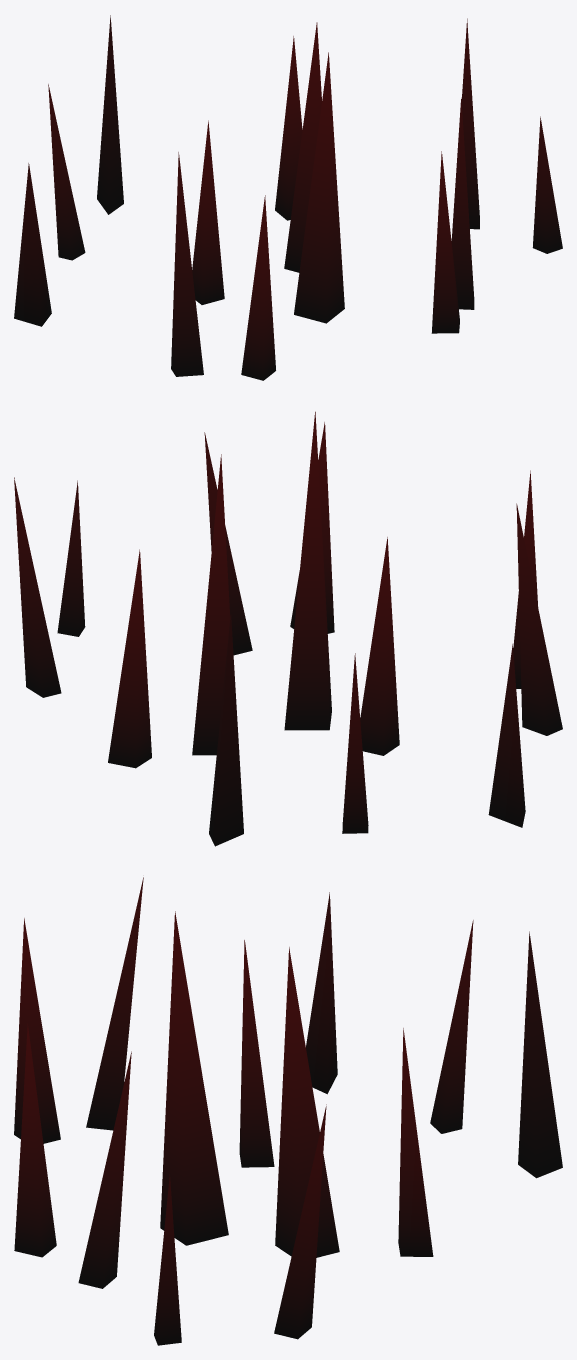
Rendered from Herbe2.fbx.
The picture shows the model from 3 angles, top to bottom: view 1: azimuth 30°, elevation 25°; view 2: azimuth 150°, elevation 25°; view 3: azimuth 270°, elevation 25°; orthographic projection. The views are drawn at different scales.
Visible parts, largest first — view 1: Herbe2; view 2: Herbe2; view 3: Herbe2.
Part boxes in pixels (x1,y1,x2,y2): Herbe2: (14,15,562,380); Herbe2: (14,411,562,846); Herbe2: (14,877,562,1345).
Size of the model in its own units: 241 by 129 by 199.
